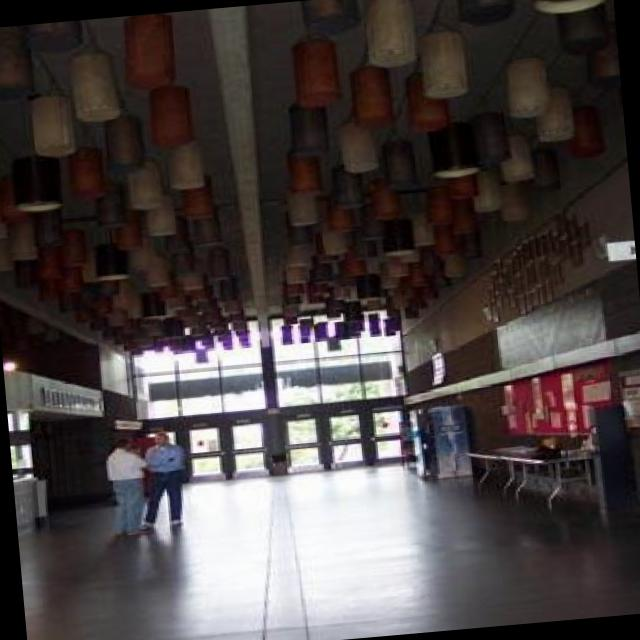floor-decor: (13, 432, 640, 640)
table: (466, 438, 604, 515)
windows: (127, 304, 416, 486)
